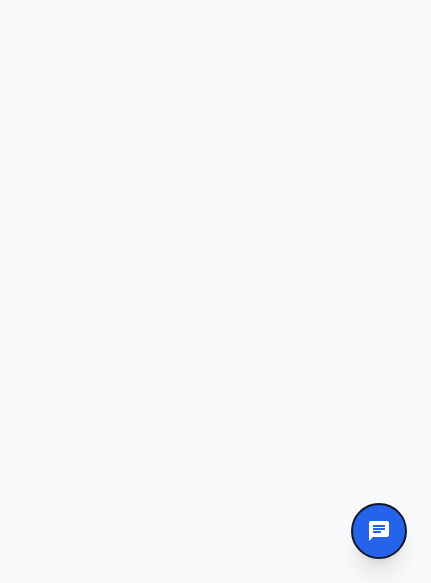
Scenario: ElonChatWidget Component (TDD Suite) › sends message when clicking a quick suggestion chip
This screenshot has width=431, height=583.
Click the button with test id "elon-fab-button". click: (379, 531)
box: [351,503,407,559]
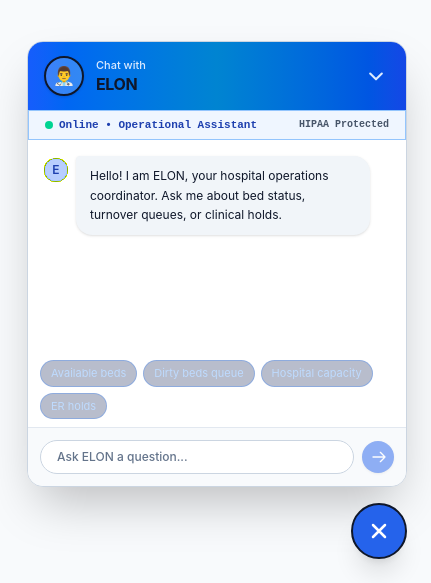
Click the button "Dirty beds queue". click: (199, 373)
box: [143,360,255,386]
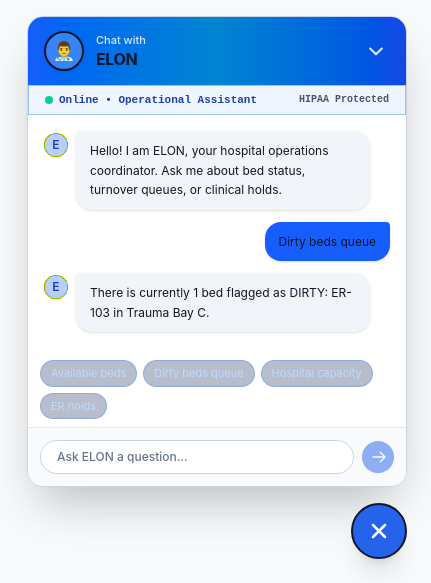
expect the text "There is currently 1 bed flagged as DIRTY: ER-103 in Trauma Bay C." is shown: met, box [76,273,370,332]
